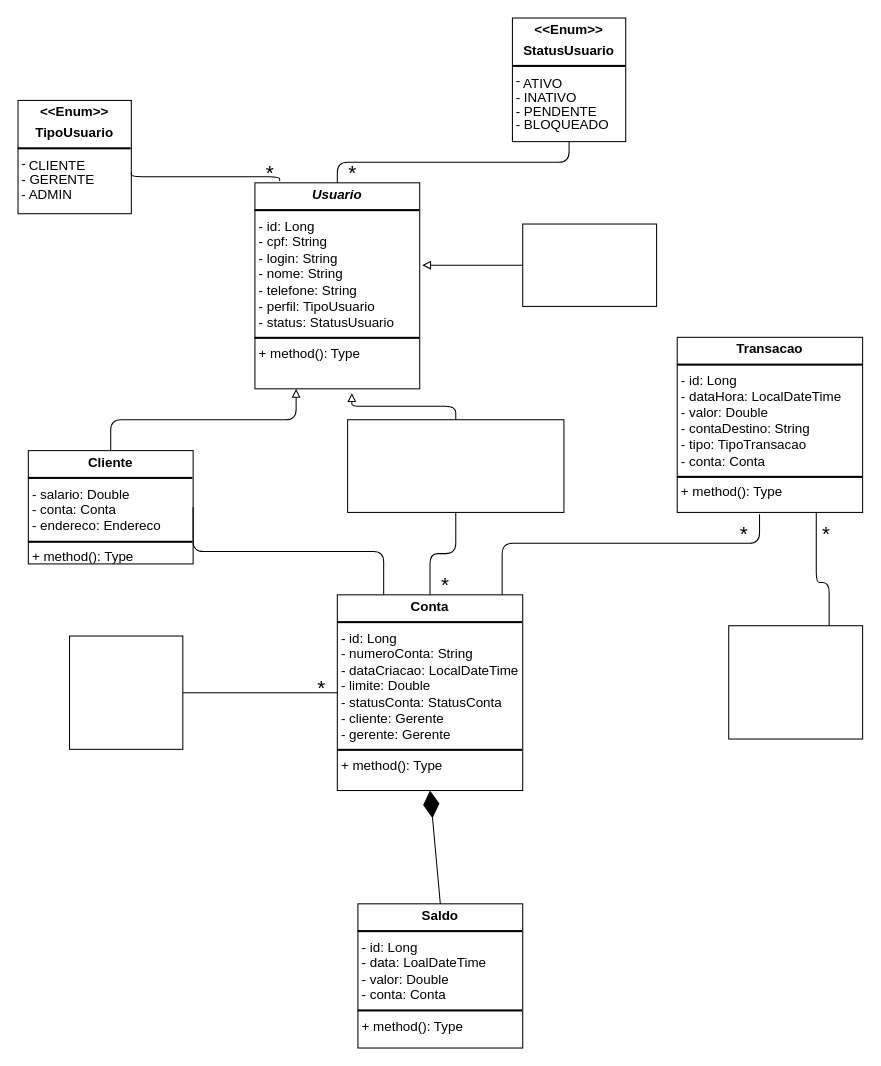
Image size: 881x1066. Some labels were removed from this diagram. Each missing label, with the centre of its shape:
"<<Enum>> StatusConta - APROVADA - PENDENTE - REJEITADA" goes at [125,692].
"<<Enum>> TipoTransacao - DEPOSITO - SAQUE - TRANSFERENCIA" goes at [795,682].
"Administrador + method(): Type" goes at [589,264].
"Gerente - contasGerenciadas:List<Conta> + method(): Type" goes at [455,465].
